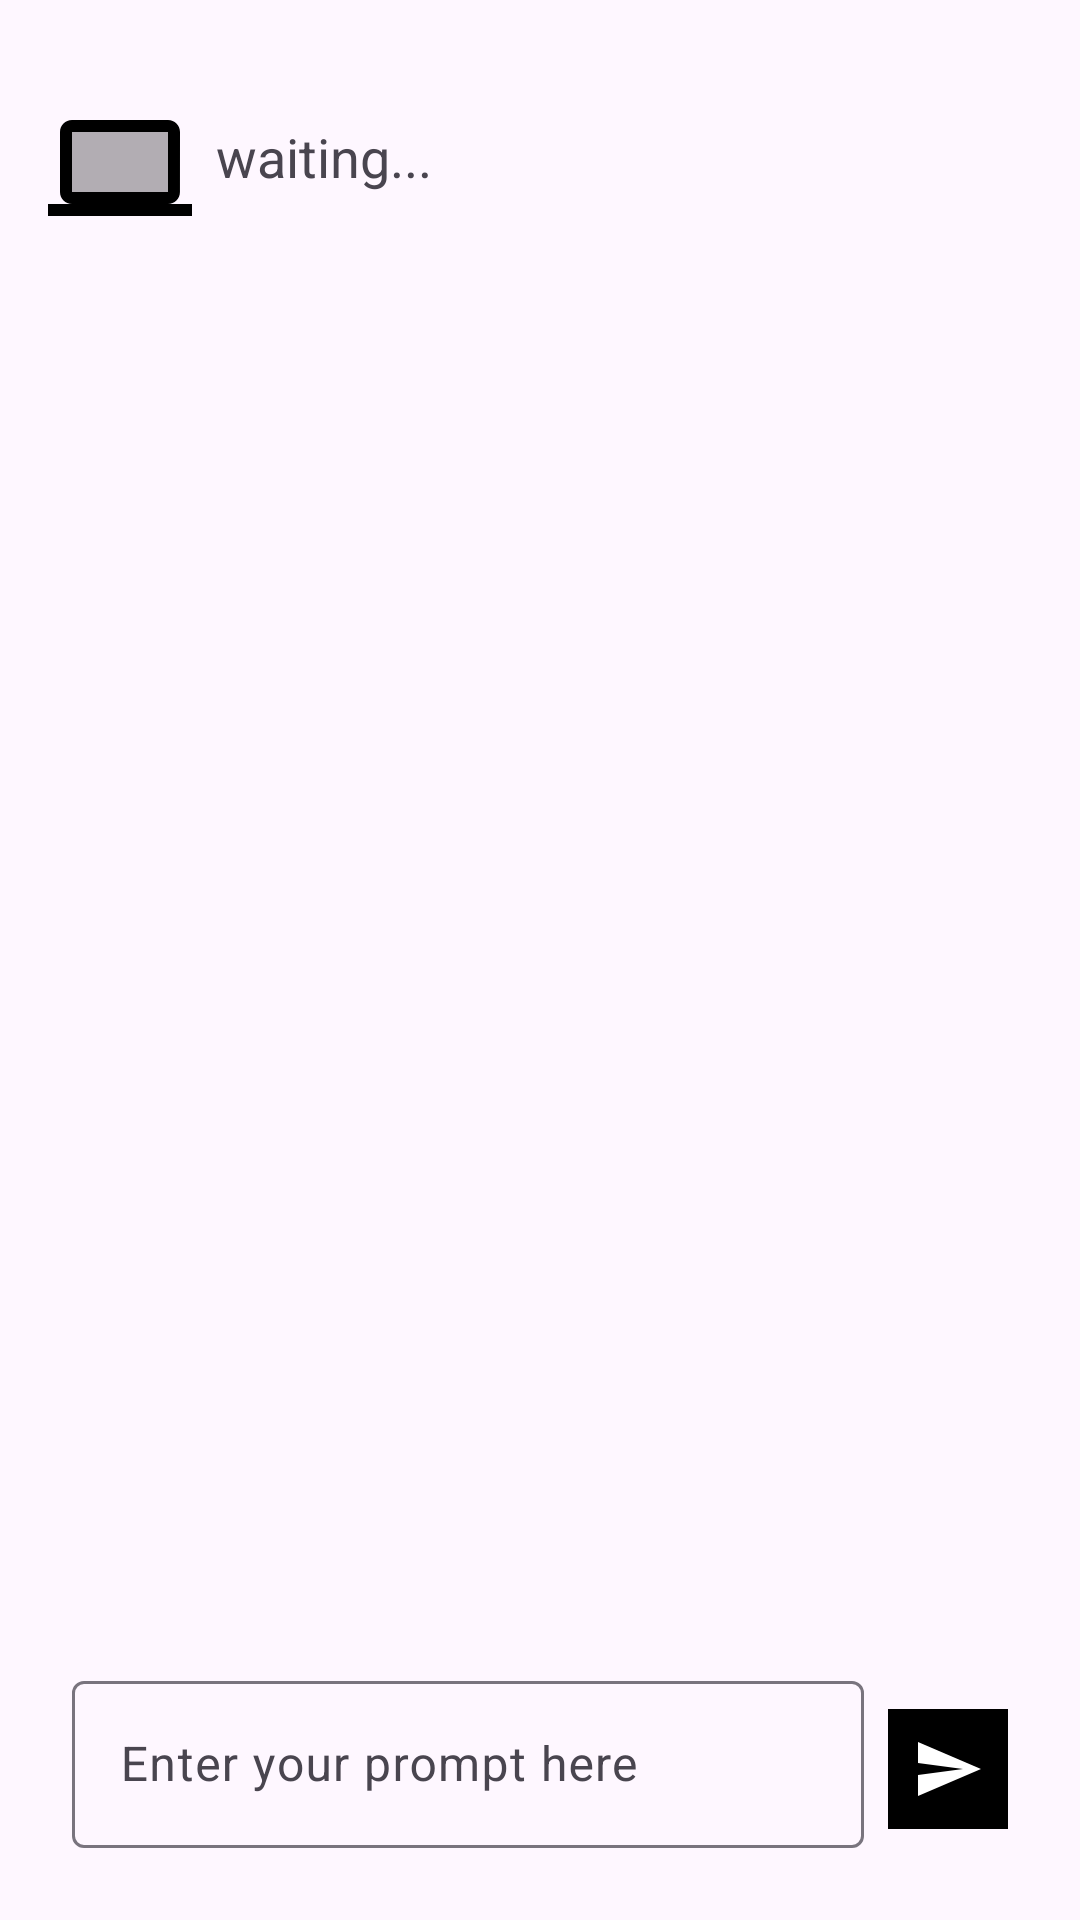

Icons on this 1080w x 1920h Android screen, each with the point to tap as (x=x, y=y):
computer: (x=120, y=168)
send: (x=948, y=1769)
